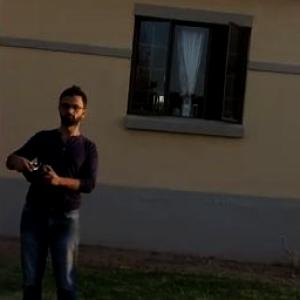follow: (0, 77, 109, 299)
null: (274, 232, 299, 280)
